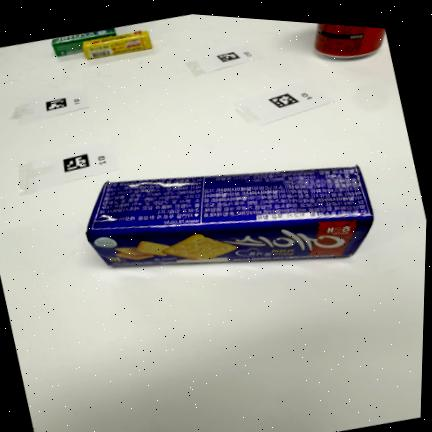cracker_ace: (86, 165, 373, 265)
